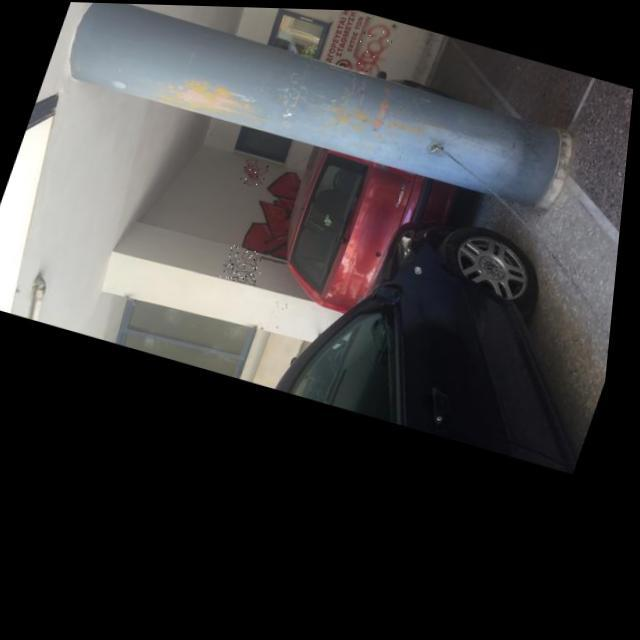-: (348, 16, 397, 76), (224, 242, 272, 285), (240, 153, 276, 188)
